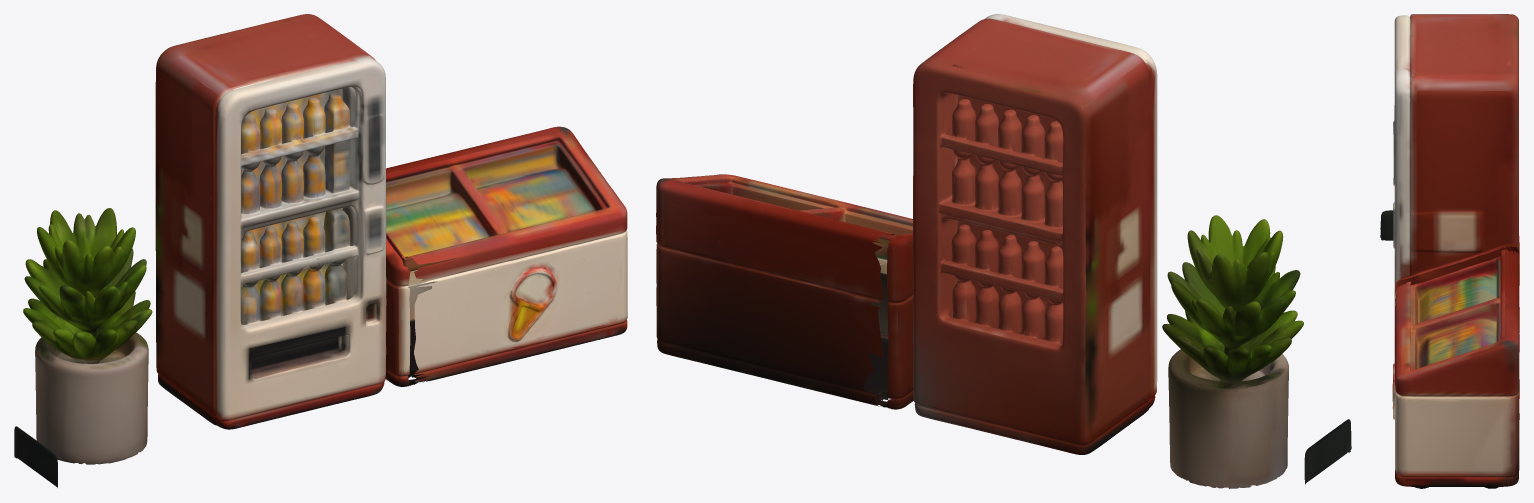
The model's file is store-props.glb.
The picture shows the model from 3 angles, left to right: view 1: azimuth 30°, elevation 25°; view 2: azimuth 150°, elevation 25°; view 3: azimuth 270°, elevation 25°; orthographic projection. The views are drawn at different scales.
Visible parts, largest first — view 1: vending_detail, freezer_detail, plant_detail; view 2: vending_detail, freezer_detail, plant_detail; view 3: vending_detail, freezer_detail, plant_detail.
Boxes of the visible parts, left/top/right/bottom form: vending_detail: left=155, top=14, right=410, bottom=429; freezer_detail: left=386, top=126, right=627, bottom=385; plant_detail: left=14, top=208, right=152, bottom=487; vending_detail: left=887, top=14, right=1157, bottom=454; freezer_detail: left=656, top=174, right=912, bottom=407; plant_detail: left=1162, top=215, right=1351, bottom=488; vending_detail: left=1393, top=14, right=1519, bottom=362; freezer_detail: left=1392, top=249, right=1519, bottom=488; plant_detail: left=1380, top=210, right=1393, bottom=240.
Size of the model in its own units: 0.3653 by 0.2054 by 0.0843.
Materials: 1 (1 with a texture image).
